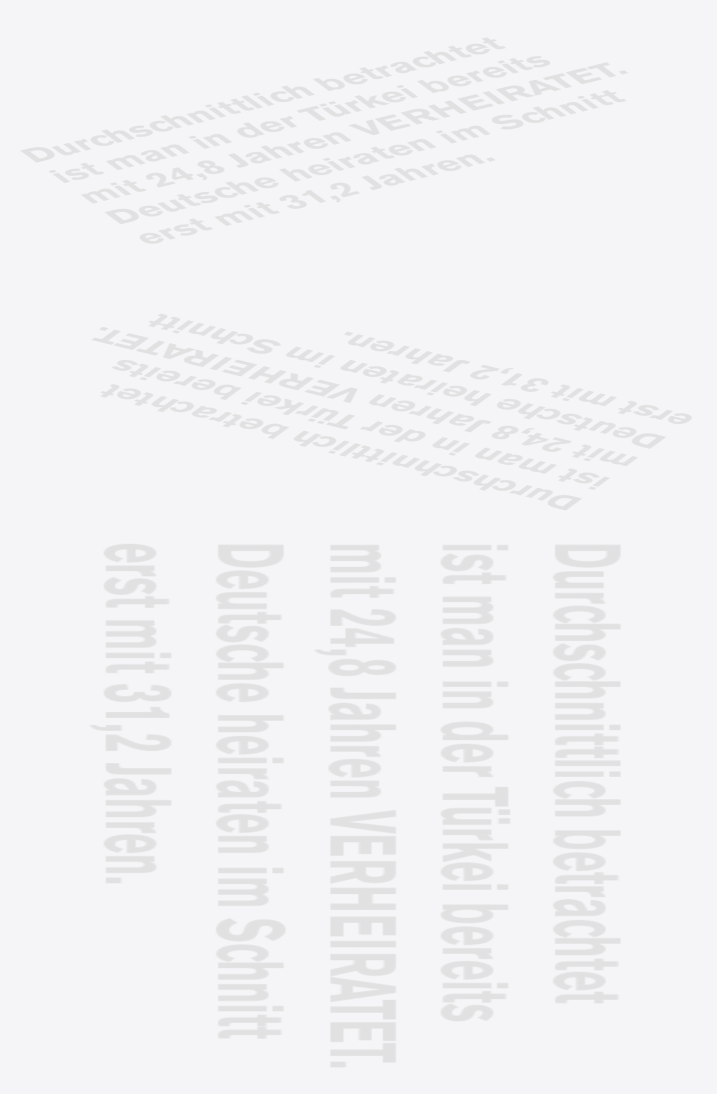
Rendered from privileged-ii-Fakten2.glb.
3 views of the same model, one above another, from view 1: azimuth 30°, elevation 25°; view 2: azimuth 150°, elevation 25°; view 3: azimuth 270°, elevation 25° (orthographic). The views are drawn at different scales.
Visible parts, largest first — view 1: 2; view 2: 2; view 3: 2.
Boxes of the visible parts, x1,y1,x2,y2 form: 2: [20, 37, 627, 243]; 2: [91, 313, 691, 510]; 2: [89, 543, 620, 1067].
Bounding box in the file's own units: 1.66 × 0 × 0.7223.
1 material, 1 textured.
